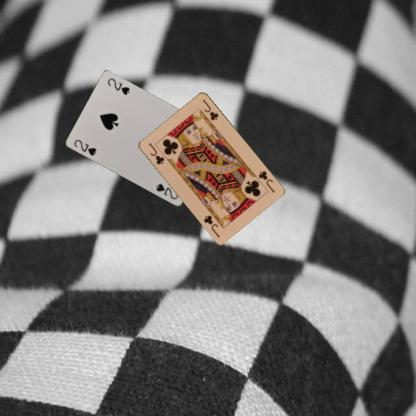2s: (72, 137, 98, 157)
Jc: (256, 168, 276, 194), (146, 140, 165, 166)
